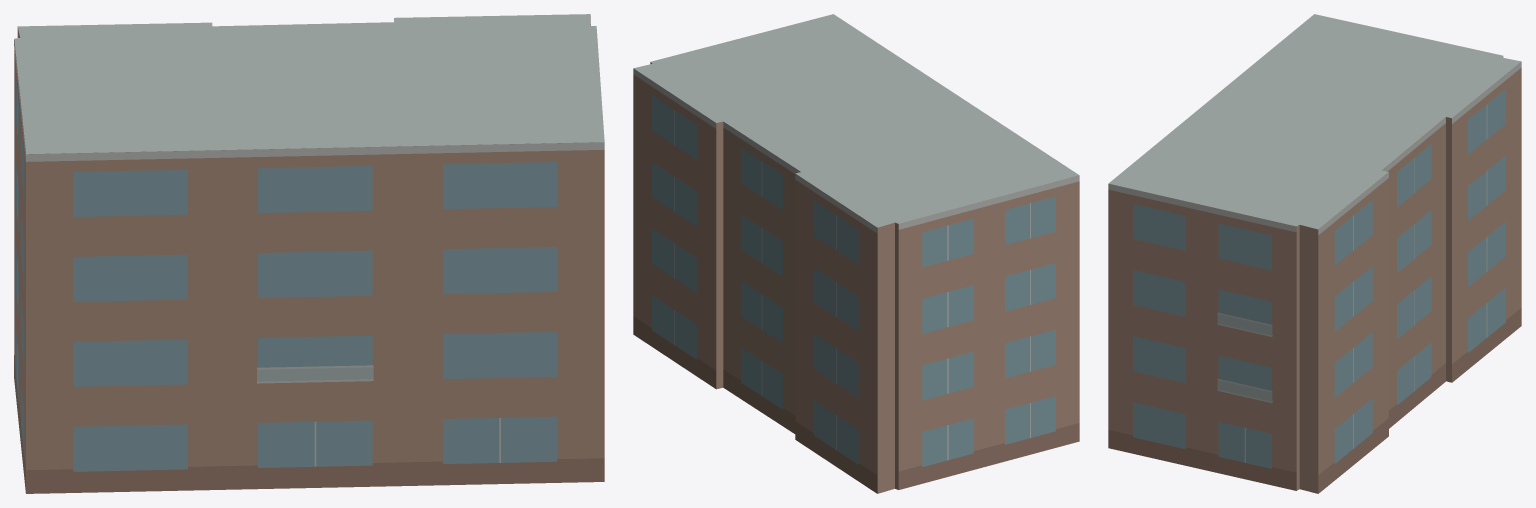
Rendered from survey-upis-32882533.glb.
3 renders of one model, left to right at view 1: azimuth 30°, elevation 25°; view 2: azimuth 150°, elevation 25°; view 3: azimuth 270°, elevation 25°, orthographic. The views are drawn at different scales.
Visible parts, largest first — view 1: survey-upis-32882533.tmp; view 2: survey-upis-32882533.tmp; view 3: survey-upis-32882533.tmp.
Part boxes in pixels (x1=…): survey-upis-32882533.tmp: x1=14, y1=14, x2=604, y2=493; survey-upis-32882533.tmp: x1=633, y1=14, x2=1079, y2=493; survey-upis-32882533.tmp: x1=1108, y1=14, x2=1521, y2=493.
Bounding box in the file's own units: 18.87 × 10.8 × 15.3.
